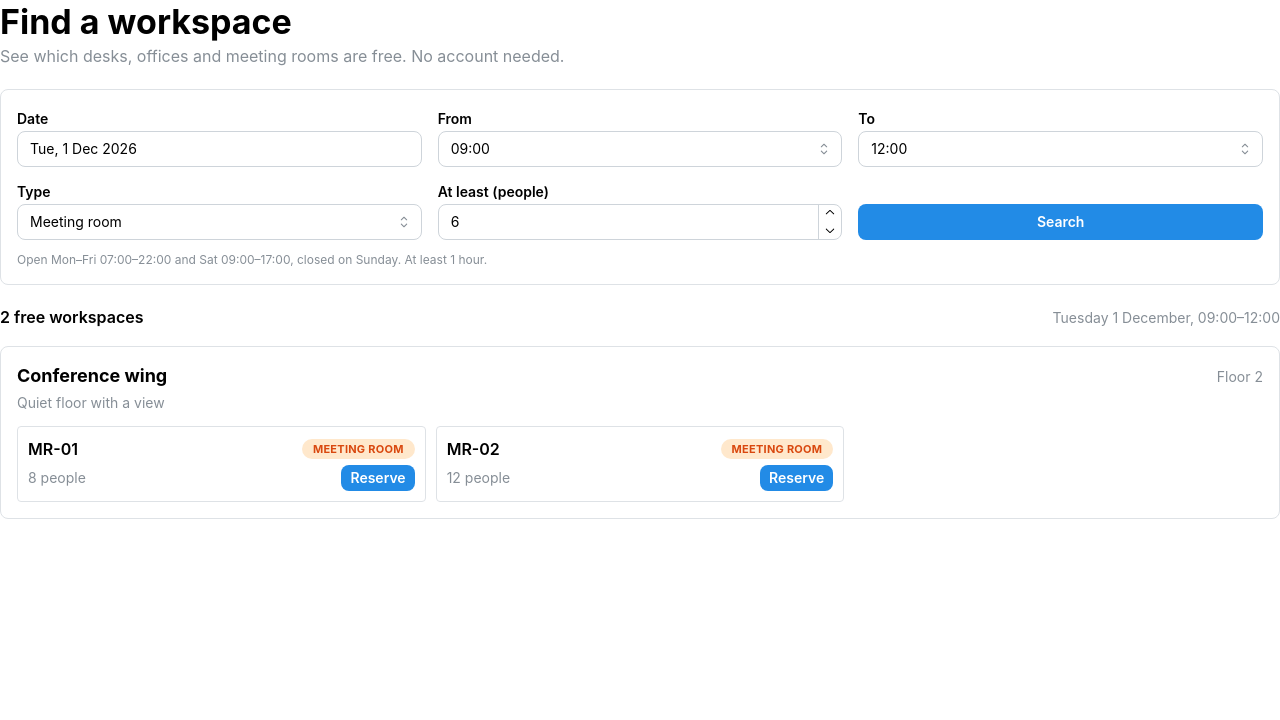
Test case: AvailabilityPage › offers alternatives when the slot was taken, and reserves the one the member picks
Click the button with aria-label "Reserve MR-01".
click(378, 478)  # box [341,465,415,491]
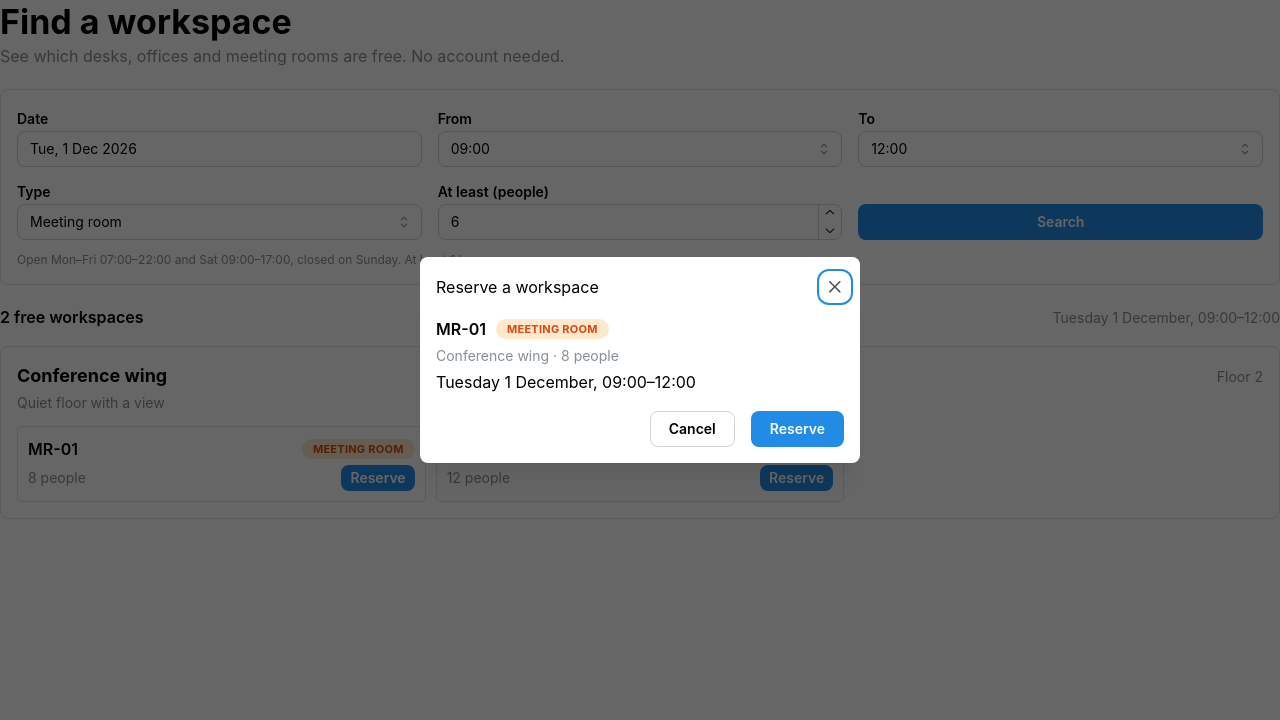
Click the button "Reserve".
click(797, 429)  # box [751,411,844,447]
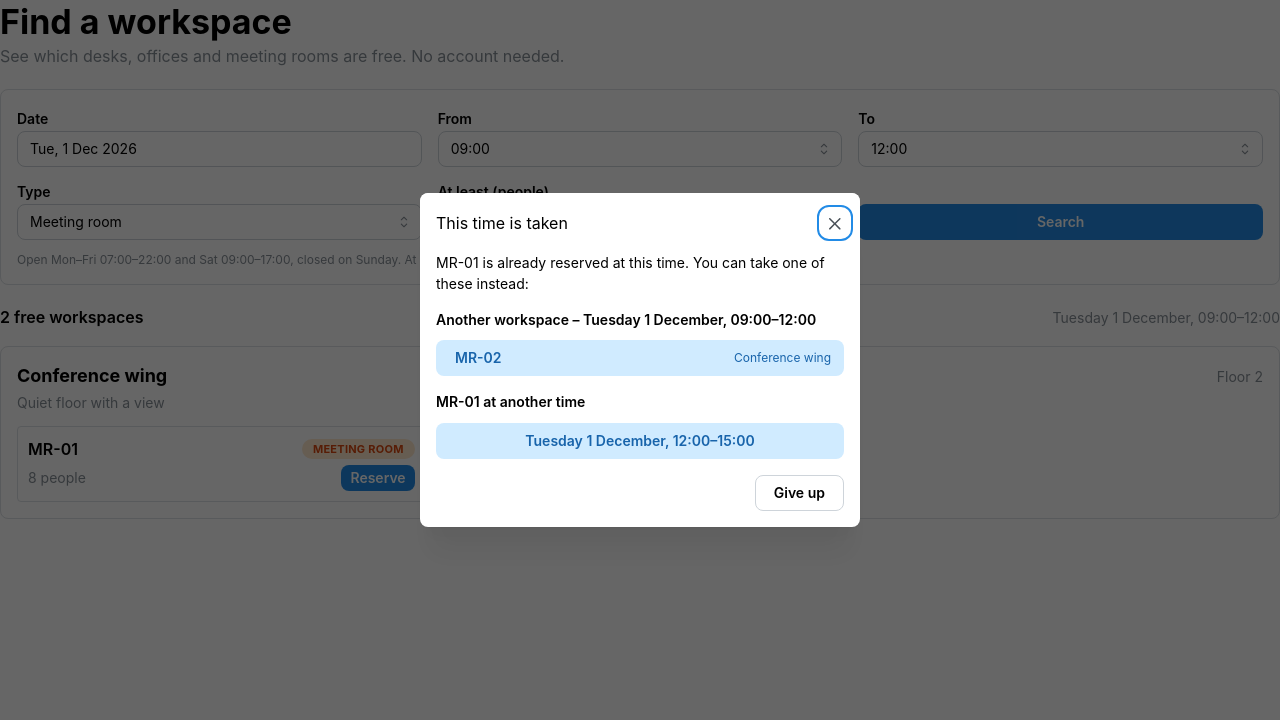
expect the text "MR-01 is already reserved" is shown: met, box [436,254,825,292]
expect the button "Tuesday 1 December, 12:00–15:00" is shown: met, box [436,423,844,459]
Click the button "MR-02 Conference wing".
click(478, 358)  # box [436,340,844,376]
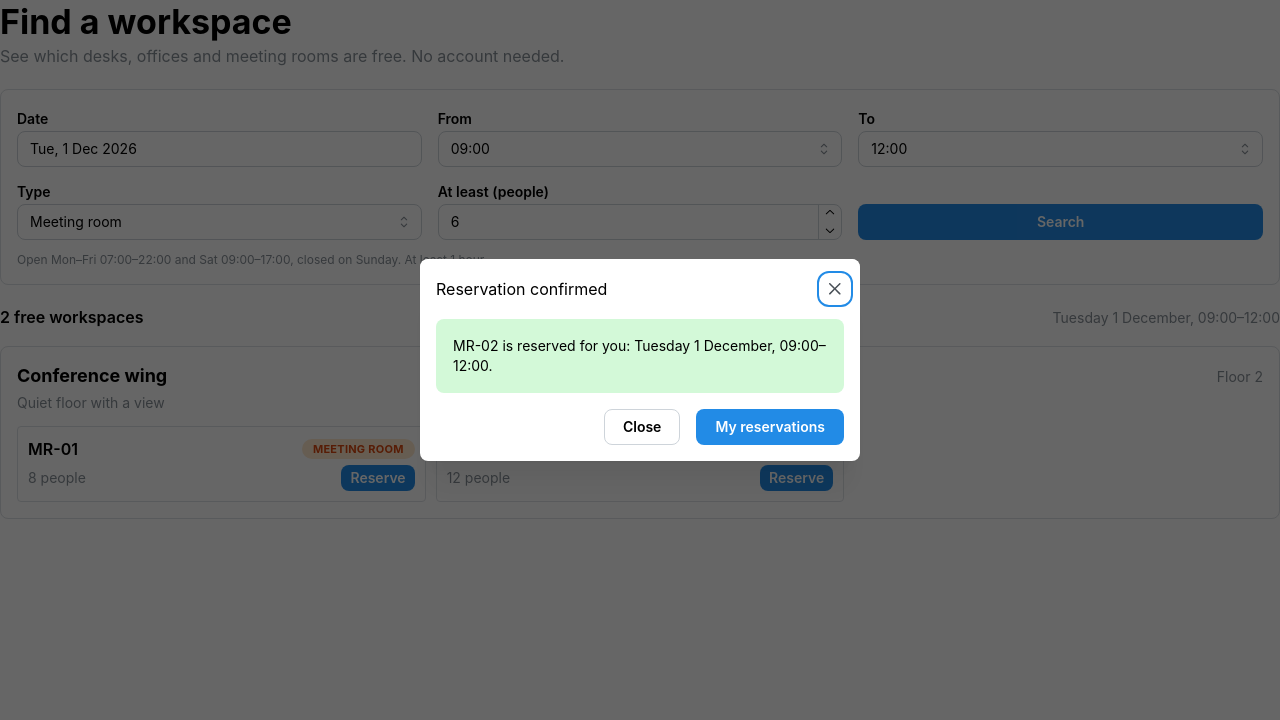
expect the text "MR-02 is reserved for you: Tuesday 1 December, 09:00–12:00." is shown: met, box [453,336,827,376]
